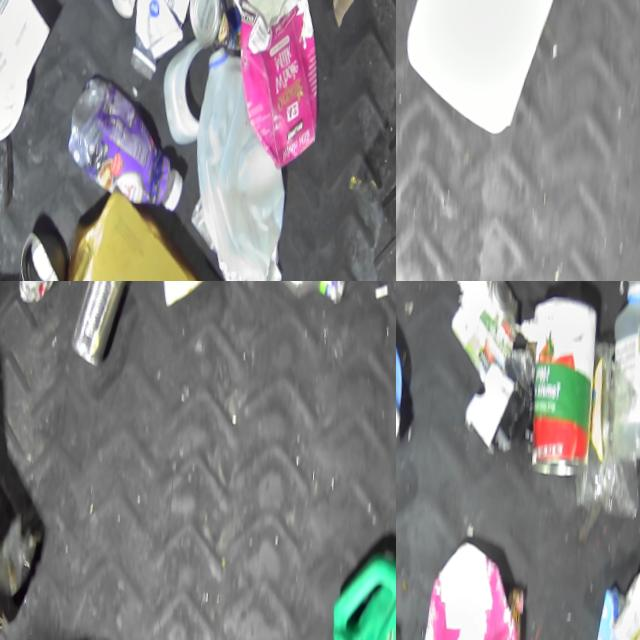can: (525, 287, 603, 477), (446, 281, 522, 361), (69, 281, 127, 369), (16, 223, 70, 281), (185, 0, 242, 43), (155, 281, 225, 309), (17, 281, 60, 301)
milk_jug: (186, 39, 299, 279), (399, 0, 566, 137), (0, 0, 55, 161)
non_white_jug: (224, 0, 332, 168), (410, 535, 528, 640), (310, 518, 396, 640)
plastic_bottle: (600, 281, 640, 460), (232, 281, 350, 303)
